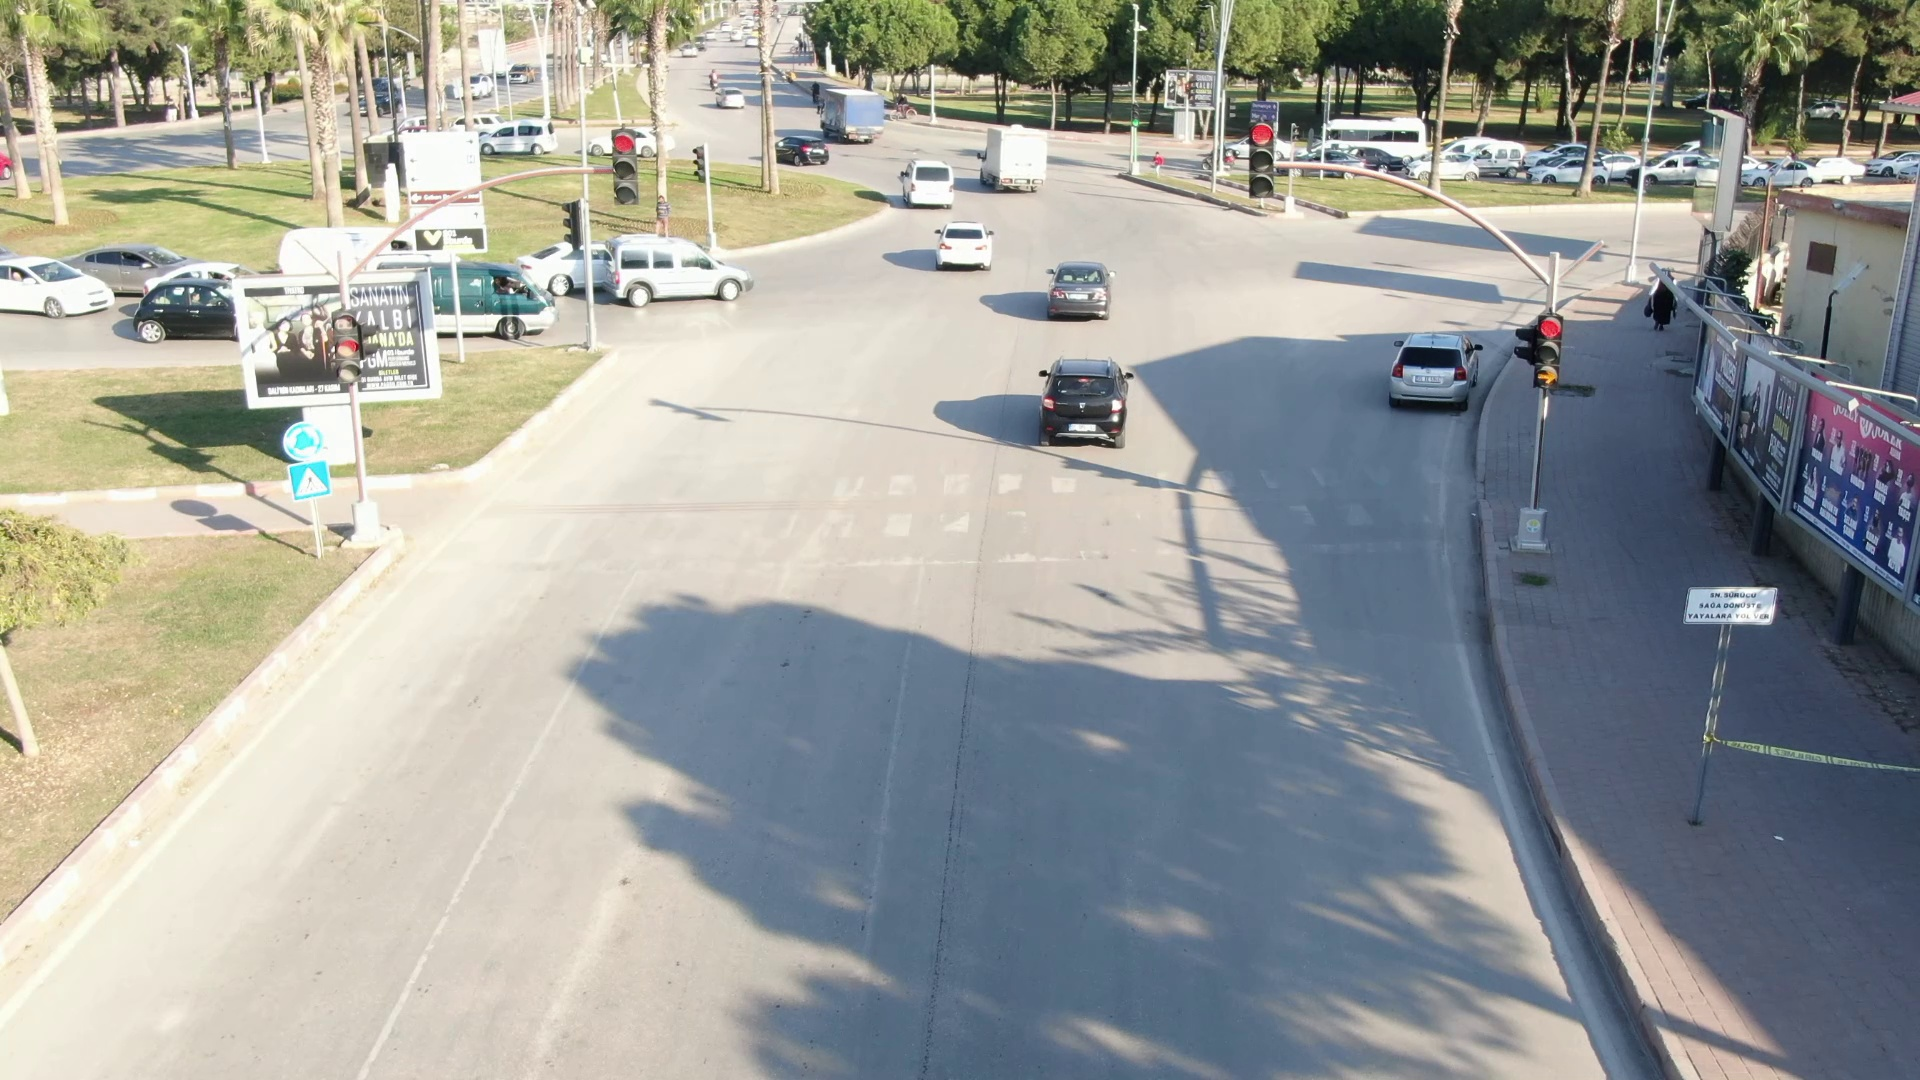car: (600, 228, 771, 326), (1007, 344, 1147, 455), (425, 254, 577, 347), (1366, 316, 1488, 425), (133, 263, 250, 362), (963, 107, 1068, 202), (1030, 251, 1128, 328), (811, 80, 900, 148), (925, 212, 1005, 281), (884, 150, 964, 217), (771, 127, 835, 181)
person: (1634, 259, 1687, 342)
